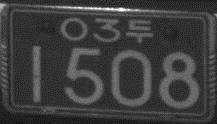0: (109, 48, 152, 107), (60, 17, 89, 42)
1: (22, 45, 54, 103)
3: (92, 17, 121, 43)
5: (62, 46, 104, 106)
8: (157, 50, 199, 110)
두: (124, 17, 154, 43)
